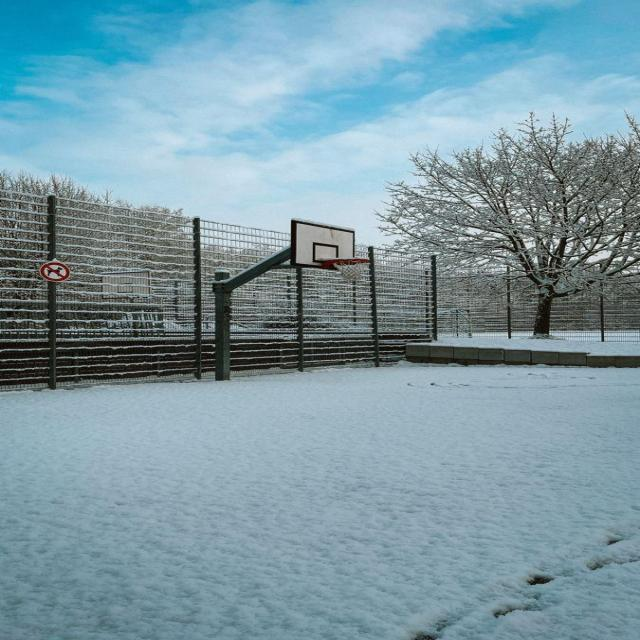hoop: (337, 238, 391, 284)
